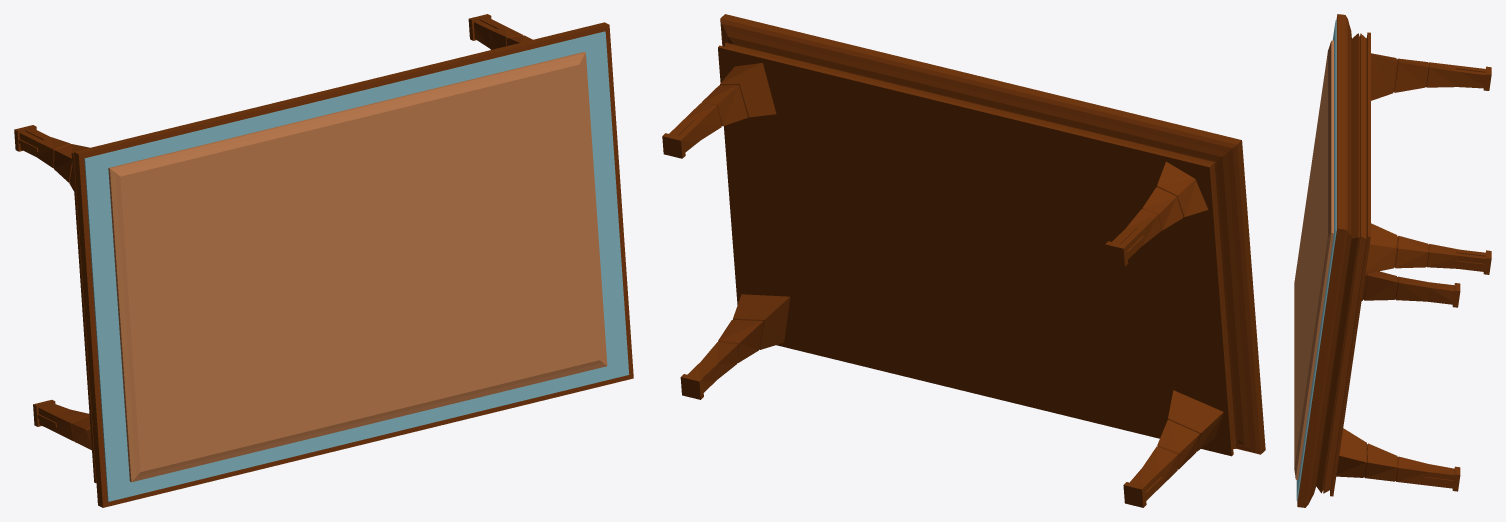
The model's file is table2.obj.
The picture shows the model from 3 angles, left to right: view 1: azimuth 30°, elevation 25°; view 2: azimuth 150°, elevation 25°; view 3: azimuth 270°, elevation 25°; orthographic projection. The views are drawn at different scales.
Visible parts, largest first — view 1: Object.1; view 2: Object.1; view 3: Object.1.
Boxes of the visible parts, left/top/right/bottom form: Object.1: left=14, top=14, right=633, bottom=507; Object.1: left=662, top=14, right=1265, bottom=507; Object.1: left=1294, top=14, right=1491, bottom=507.
Bounding box in the file's own units: 138 × 83.57 × 53.5.
